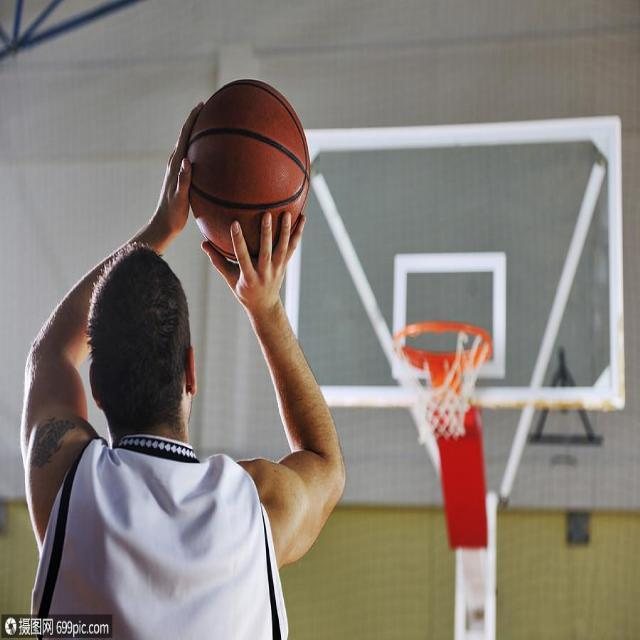rim: (188, 77, 310, 256)
